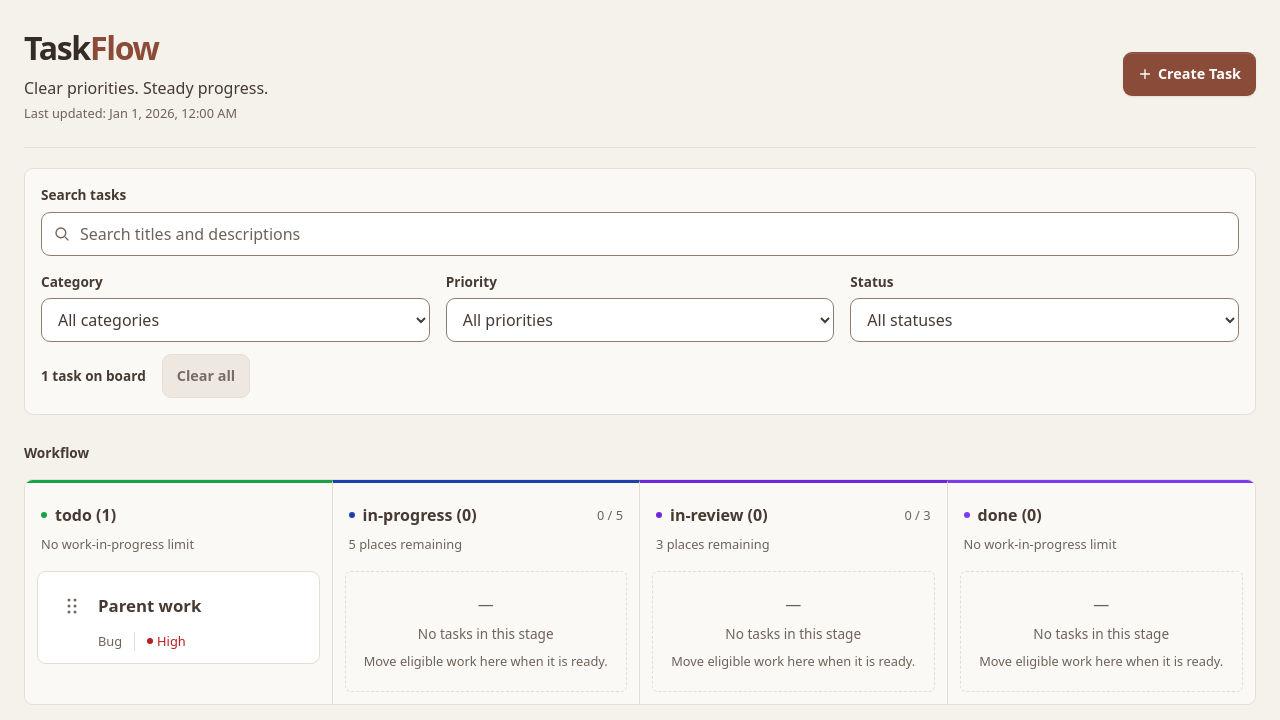
Test: linked task board interactions › creates a child from its parent with inherited defaults, independent card, and progress
The width and height of the screenshot is (1280, 720).
Step 1. Click the button with aria-label "Open task Parent work" → (202, 606), box x1=98 y1=584 x2=306 y2=628
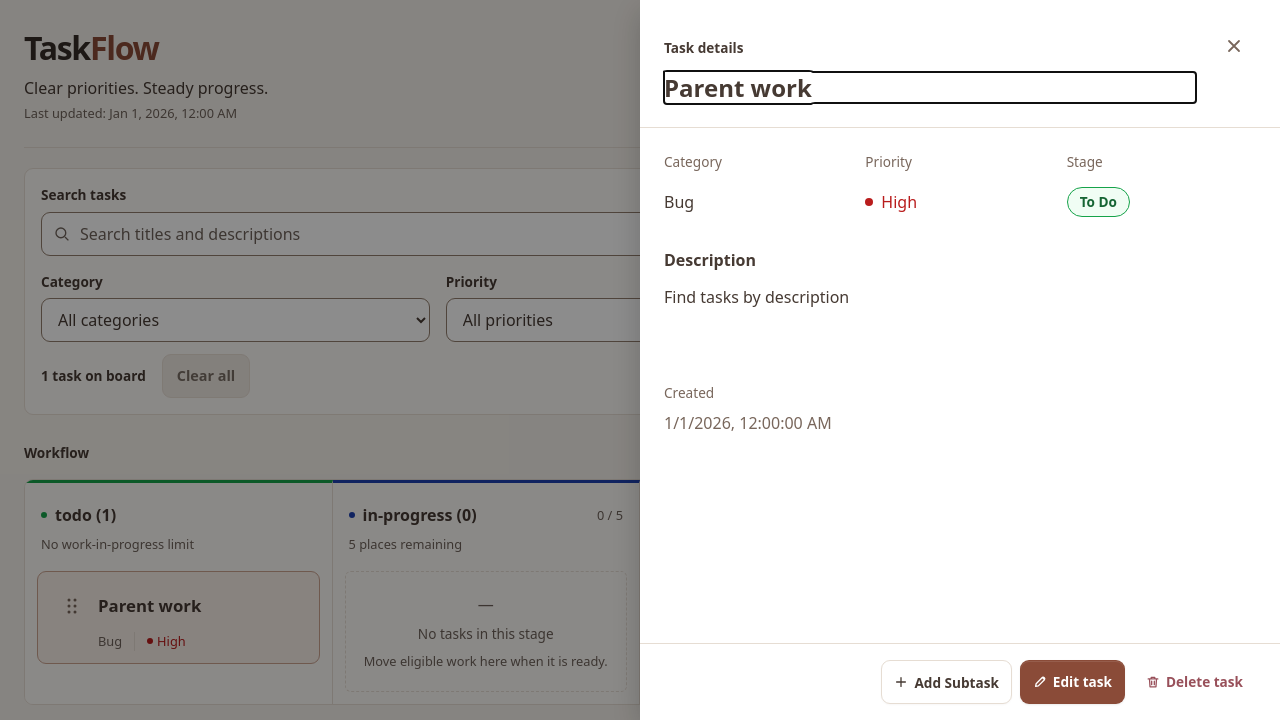
Step 2. Click the button "Edit task" → (1072, 682), box x1=1020 y1=660 x2=1125 y2=704
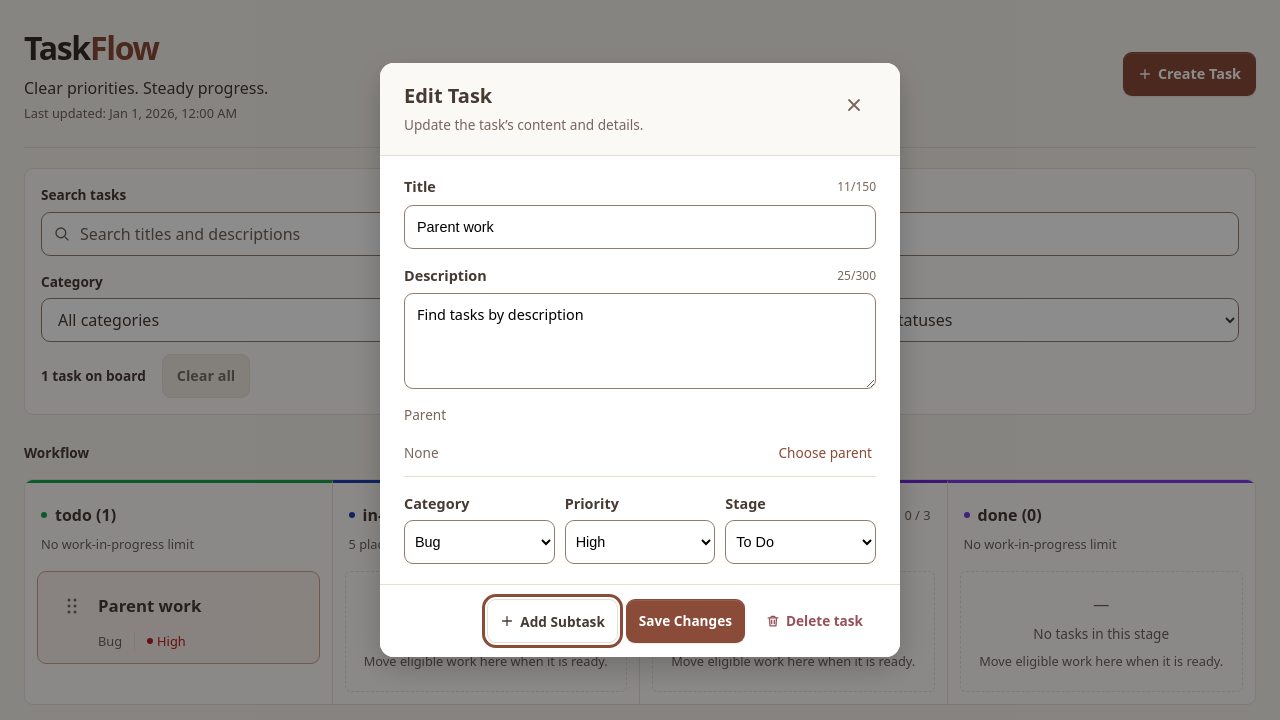
Step 3. Press Enter
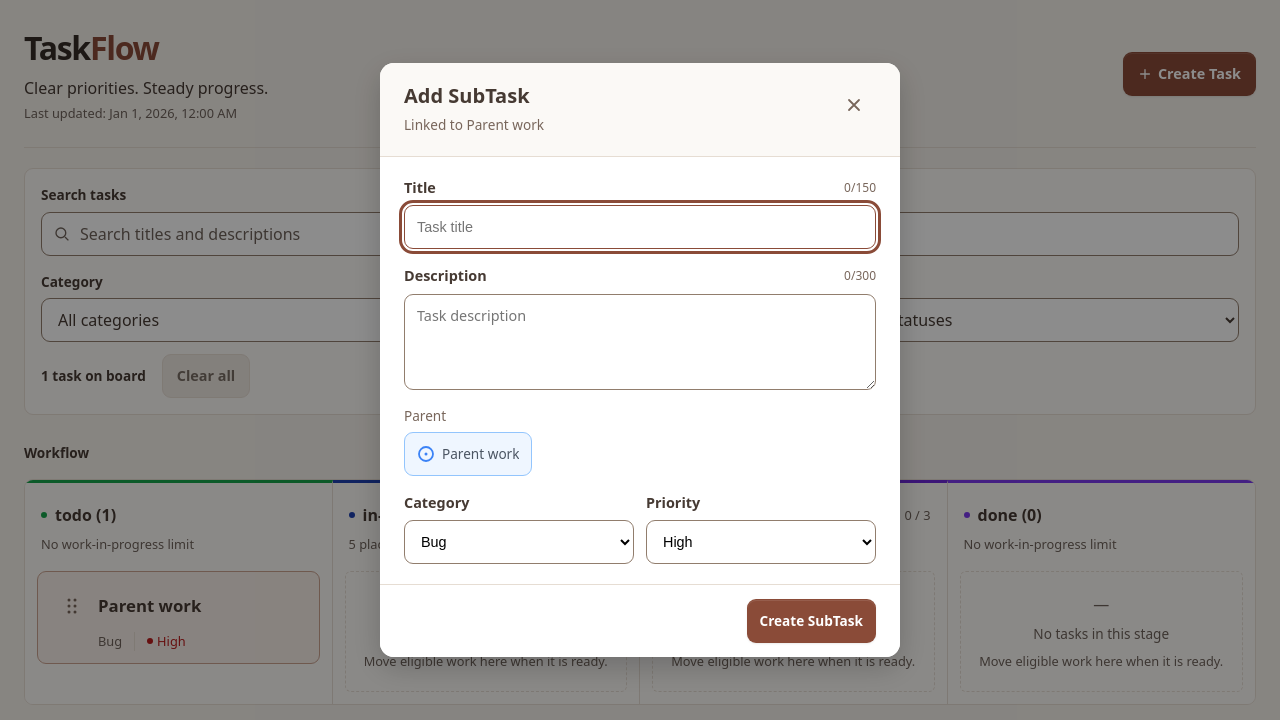
Expected: the button with aria-label "Open parent Parent work" is shown, x1=404 y1=432 x2=532 y2=476
Expected: the dropdown labelled "Priority" shows "High", x1=646 y1=520 x2=876 y2=564
Expected: the dropdown labelled "Category" shows "Bug", x1=404 y1=520 x2=634 y2=564
Step 4. Type "New linked child" into the field labelled "Title" → (640, 227), box x1=404 y1=205 x2=876 y2=249
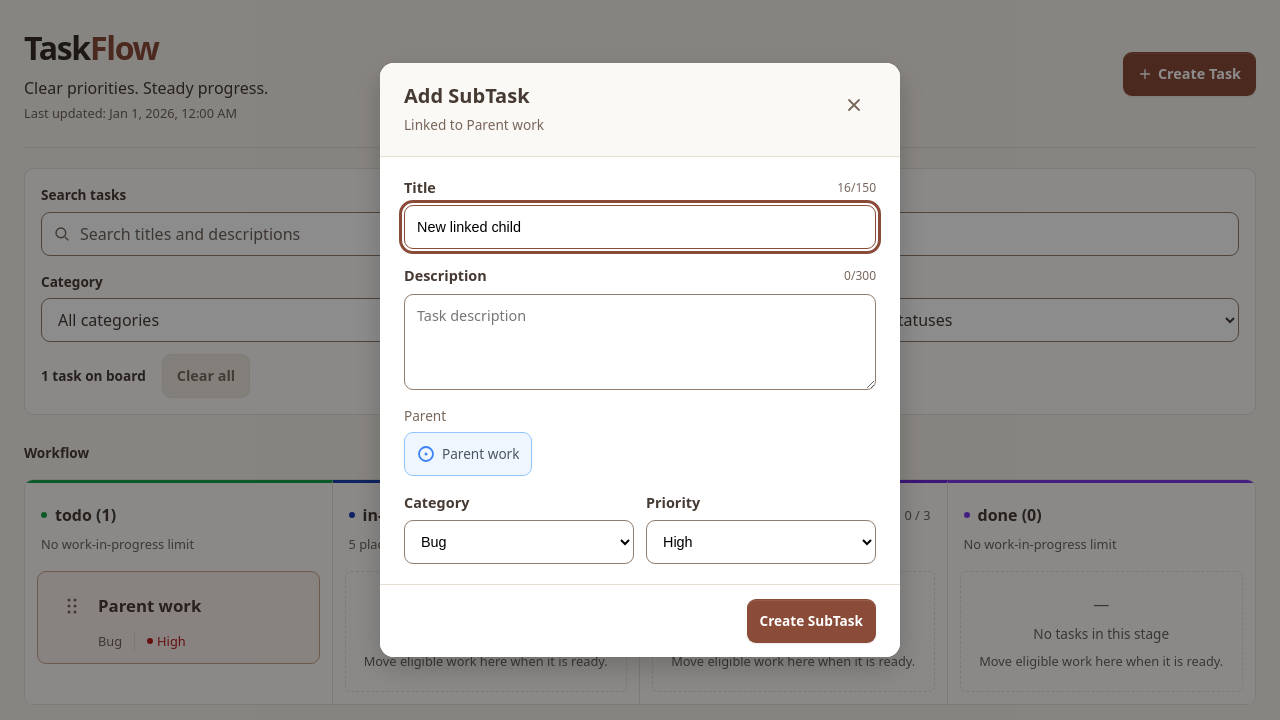
Step 5. Type "Independent child description" into the text box labelled "Description" → (640, 342), box x1=404 y1=294 x2=876 y2=390
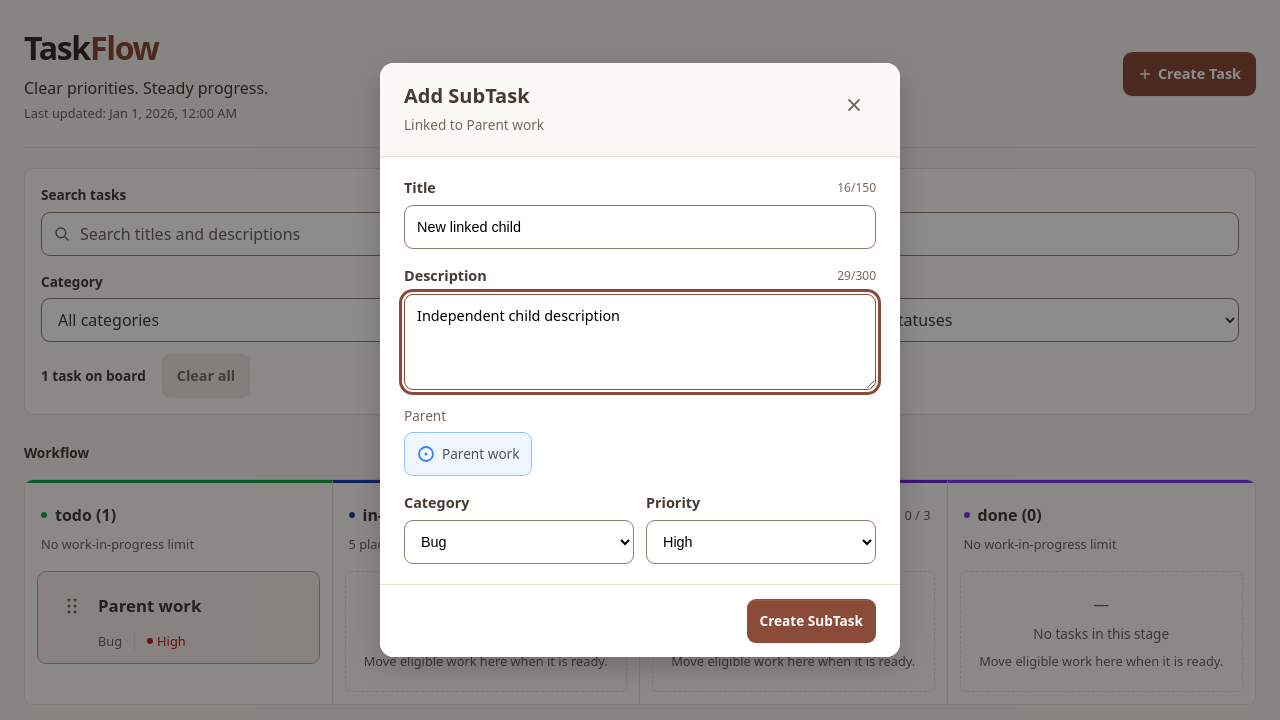
Step 6. Click the button "Create SubTask" → (811, 621), box x1=746 y1=599 x2=876 y2=643
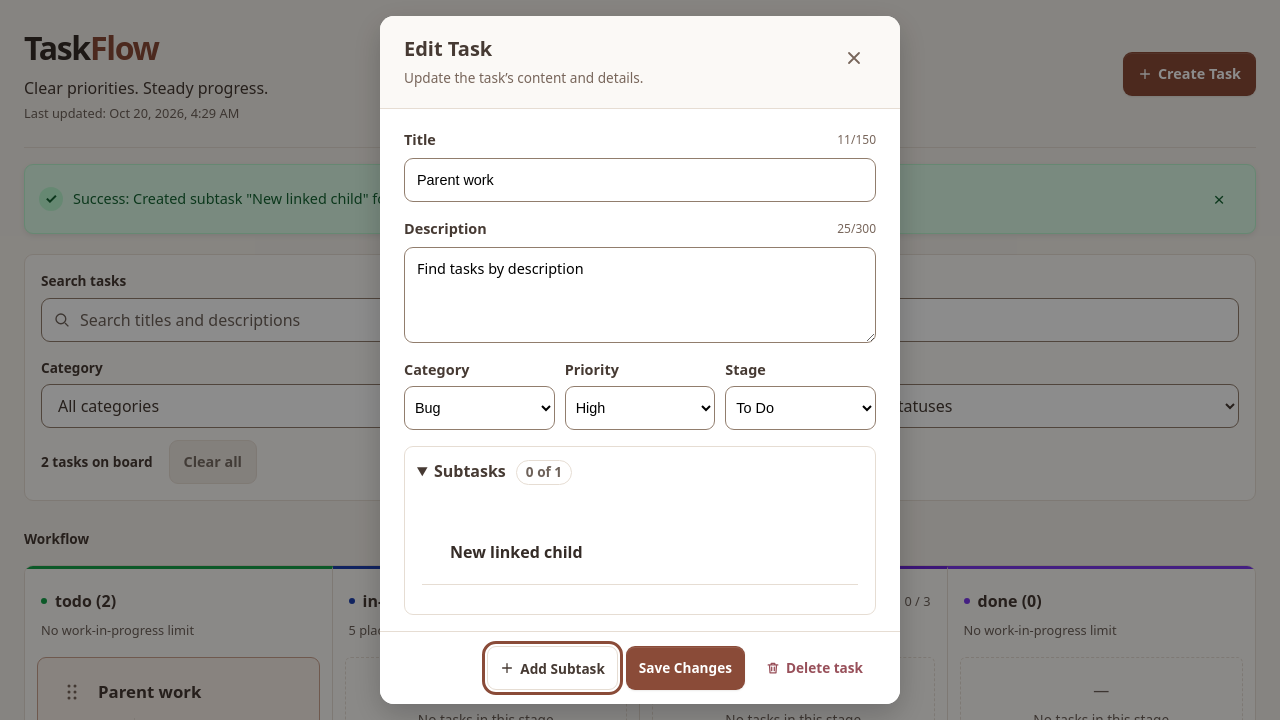
Expected: the dialog "Edit Task" shows "New linked child", x1=450 y1=530 x2=858 y2=574
